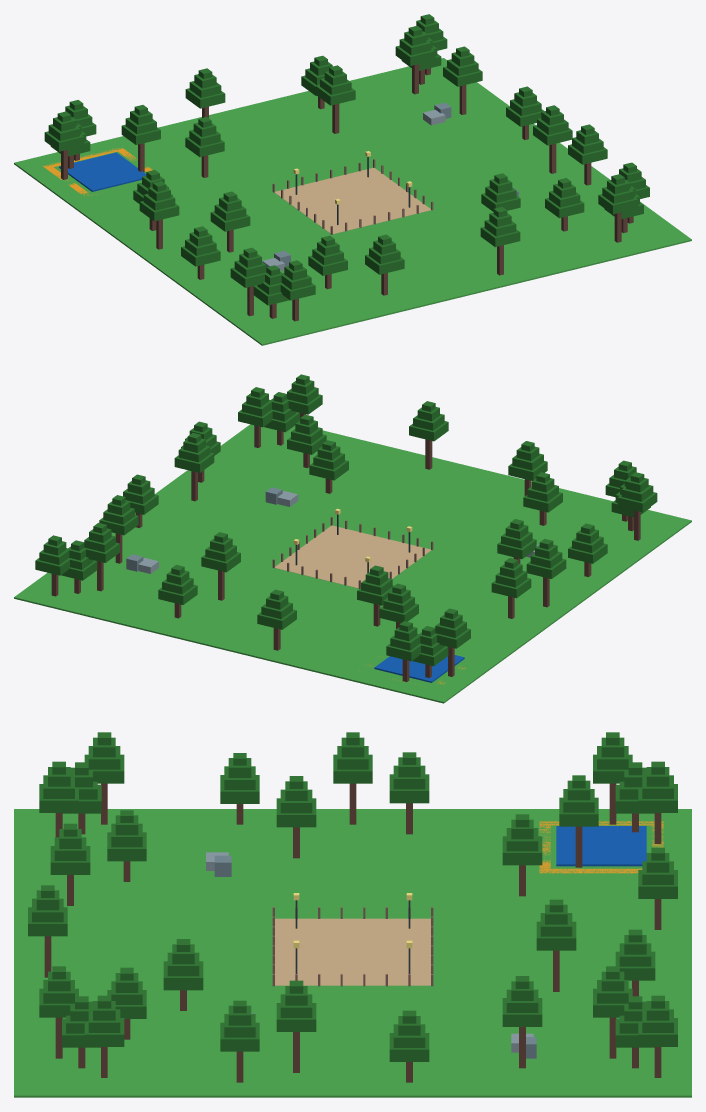
The model's file is world_map.obj.
3 views of the same model, one above another, from view 1: azimuth 30°, elevation 25°; view 2: azimuth 150°, elevation 25°; view 3: azimuth 270°, elevation 25° (orthographic). The views are drawn at different scales.
Bounding box in the file's own units: 60 × 8.8 × 60.
